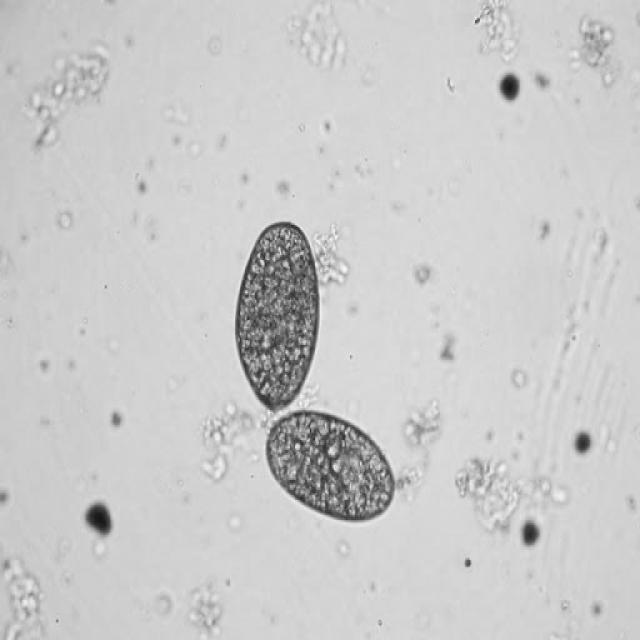Fasciola Hepatica: (258, 403, 402, 527), (233, 215, 323, 412)
